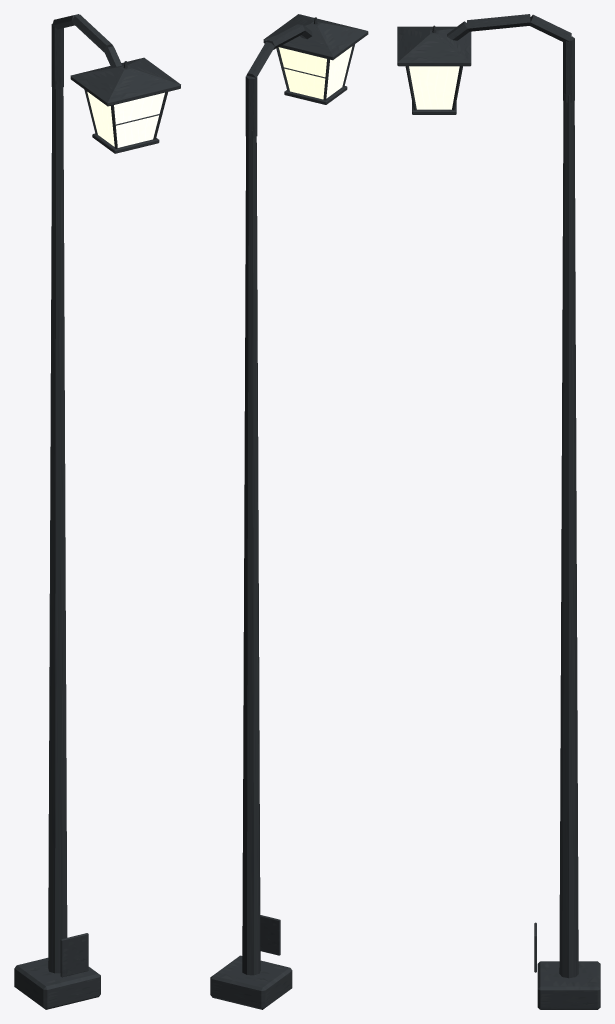
Rendered from streetlight.glb.
The picture shows the model from 3 angles, left to right: view 1: azimuth 30°, elevation 25°; view 2: azimuth 150°, elevation 25°; view 3: azimuth 270°, elevation 25°; orthographic projection. The views are drawn at different scales.
Parts seen in each view (by area): view 1: outdoor_streetlight; view 2: outdoor_streetlight; view 3: outdoor_streetlight.
Boxes of the visible parts, x1,y1,x2,y2 form: outdoor_streetlight: (14,14,180,1009); outdoor_streetlight: (210,14,368,1009); outdoor_streetlight: (397,14,600,1009).
Size of the model in its own units: 0.5 by 6.4 by 1.2.
Materials: 2 (2 with a texture image).
